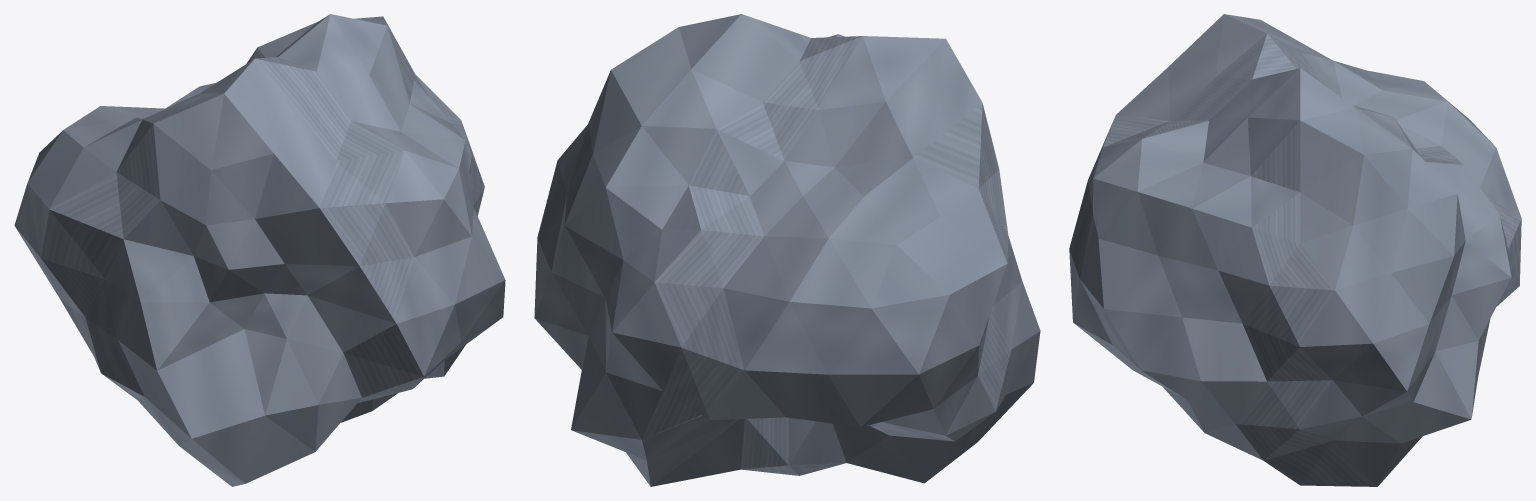
File: asteroid_5.glb
The picture shows the model from 3 angles, left to right: view 1: azimuth 30°, elevation 25°; view 2: azimuth 150°, elevation 25°; view 3: azimuth 270°, elevation 25°; orthographic projection. The views are drawn at different scales.
Visible parts, largest first — view 1: asteroid_icy; view 2: asteroid_icy; view 3: asteroid_icy.
Boxes of the visible parts, x1=… form: asteroid_icy: x1=14, y1=14, x2=505, y2=486; asteroid_icy: x1=534, y1=14, x2=1040, y2=486; asteroid_icy: x1=1069, y1=14, x2=1521, y2=486.
Size of the model in its own units: 8 by 7.67 by 7.74.
Materials: 1 (1 with a texture image).
